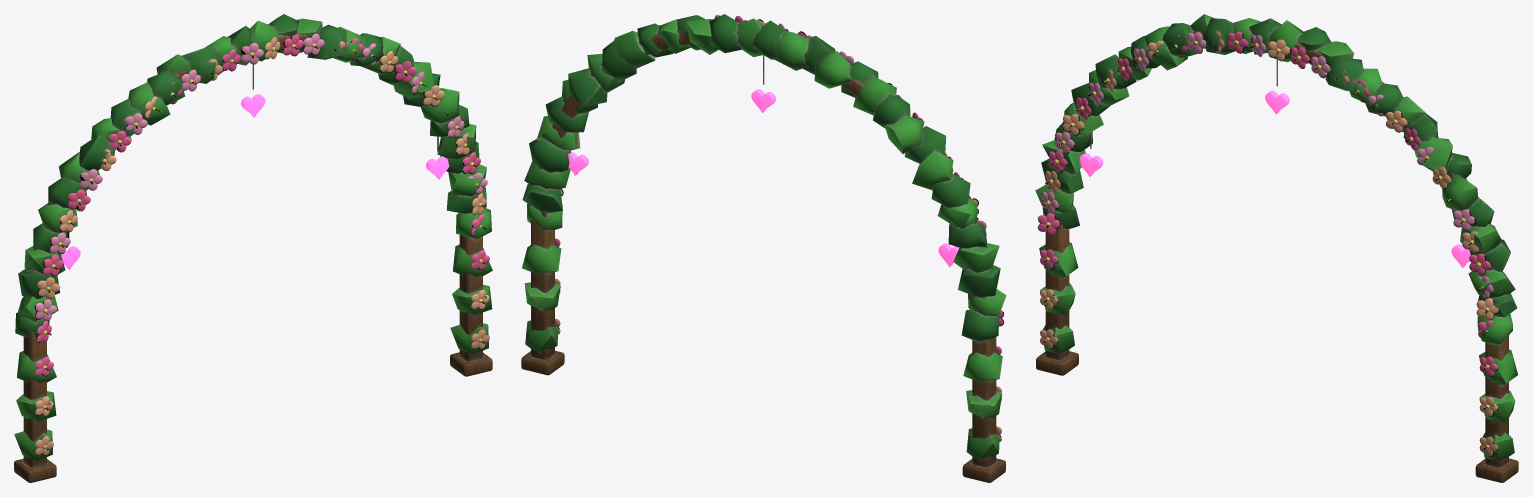
The model's file is tf_flower_arch.glb.
The picture shows the model from 3 angles, left to right: view 1: azimuth 30°, elevation 25°; view 2: azimuth 150°, elevation 25°; view 3: azimuth 330°, elevation 25°; orthographic projection.
Visible parts, largest first — view 1: tf_flower_arch; view 2: tf_flower_arch; view 3: tf_flower_arch.
Part boxes in pixels (x1,y1,x2,y2): tf_flower_arch: [14, 14, 492, 482]; tf_flower_arch: [521, 14, 1006, 482]; tf_flower_arch: [1035, 14, 1518, 482].
Bounding box in the file's own units: 9.94 × 8.02 × 0.975.
8 materials, 8 textured.
